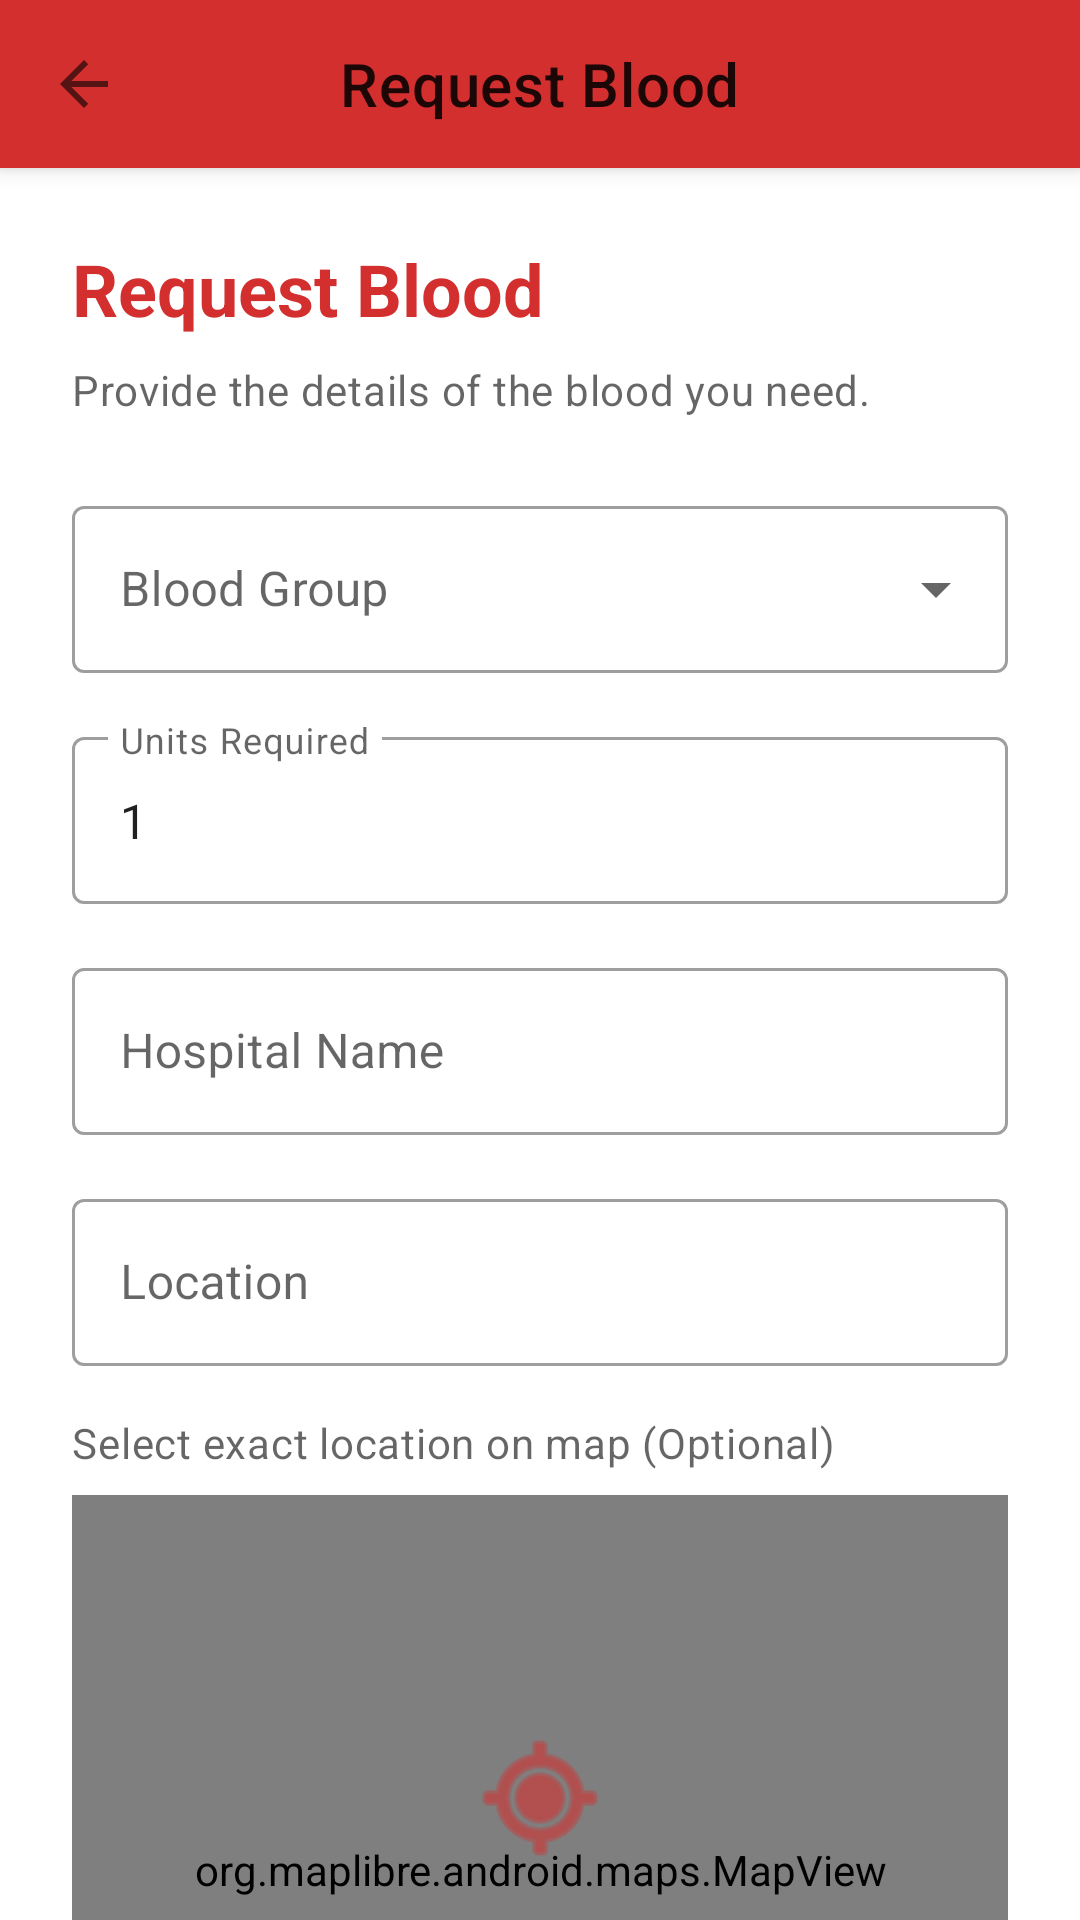

Point at icon controls on the screen. Image size 1080*1920, points as [x,y].
Map center: [540,1800]
